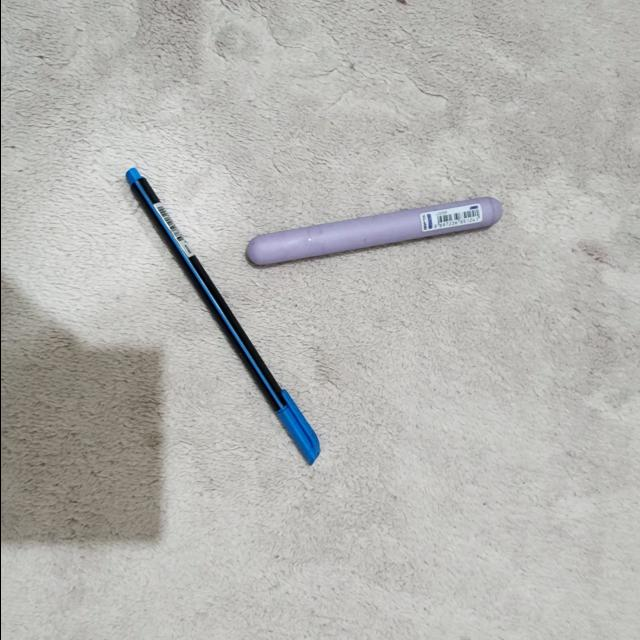kalem1: (124, 167, 319, 464)
kalem2: (245, 197, 502, 267)
